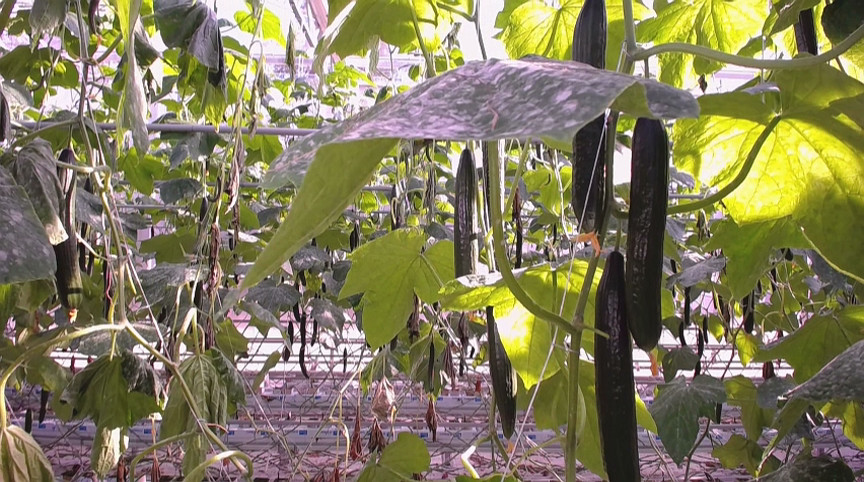cucumber: (596, 252, 641, 482), (629, 116, 669, 351), (573, 1, 607, 234), (53, 146, 86, 307), (486, 306, 517, 443), (454, 149, 480, 279), (794, 4, 819, 56)
